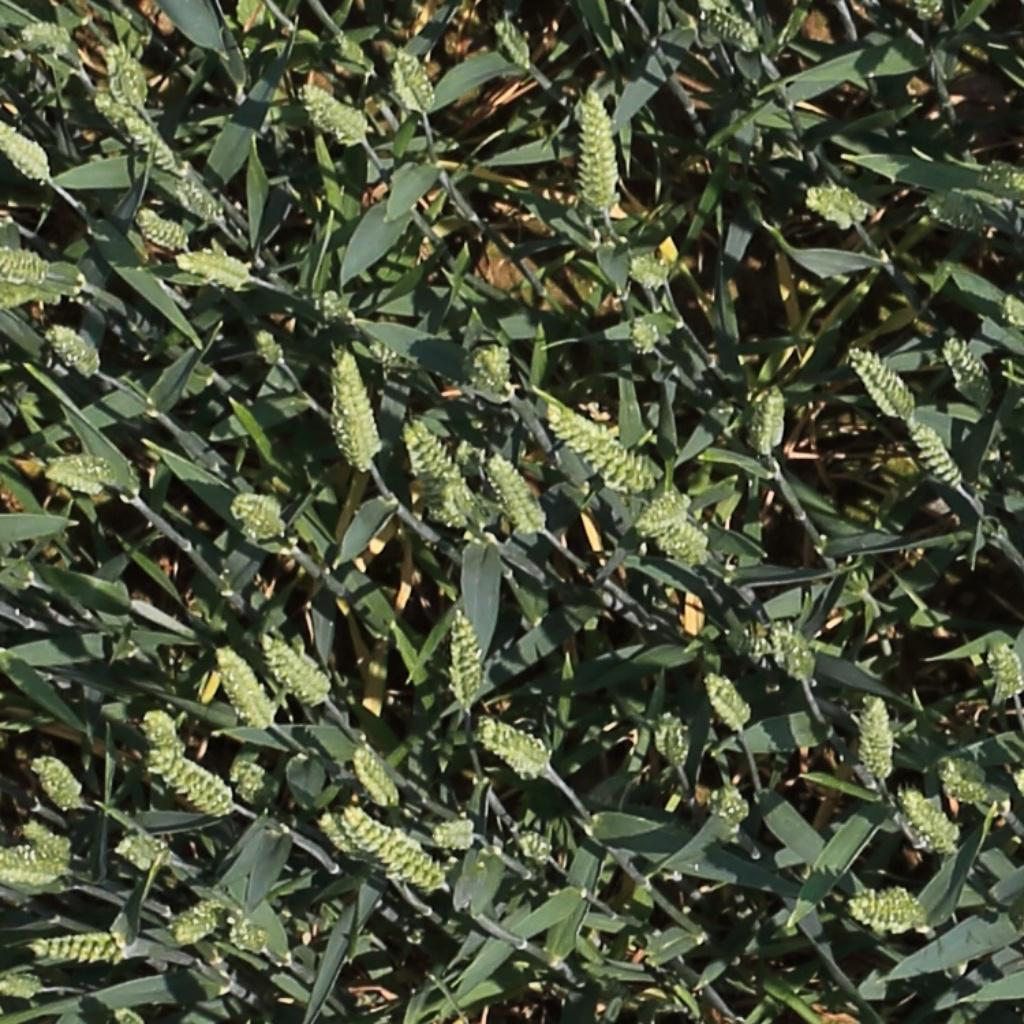0-0: (548, 408, 652, 491), (345, 811, 445, 890), (404, 417, 477, 516), (95, 91, 181, 172), (333, 344, 383, 466), (212, 643, 278, 734), (146, 750, 234, 817), (487, 449, 550, 539), (576, 86, 618, 217), (260, 633, 334, 707), (903, 408, 966, 494), (849, 344, 918, 420), (301, 83, 369, 150), (23, 929, 146, 966), (940, 331, 996, 412), (898, 786, 961, 857), (329, 379, 371, 476), (349, 742, 404, 816), (701, 669, 755, 738), (389, 42, 438, 117), (103, 36, 150, 114), (0, 111, 53, 180), (479, 720, 552, 768), (770, 617, 820, 686), (27, 755, 86, 813), (315, 811, 372, 869), (0, 842, 70, 889), (848, 885, 922, 929), (451, 610, 481, 715), (490, 12, 539, 76), (45, 322, 101, 378), (140, 705, 188, 768), (163, 891, 221, 940), (20, 814, 86, 856), (16, 15, 78, 59), (703, 6, 763, 51), (173, 174, 228, 223), (929, 192, 989, 236), (972, 151, 1024, 201), (641, 517, 711, 554), (865, 692, 892, 787), (230, 496, 288, 540), (177, 252, 252, 285), (228, 909, 270, 966), (233, 763, 291, 804), (988, 636, 1021, 707), (475, 337, 514, 397), (135, 207, 189, 248), (759, 382, 787, 461), (659, 707, 690, 776), (43, 462, 107, 495), (640, 492, 694, 531), (806, 189, 864, 223), (939, 768, 991, 805), (0, 244, 50, 282), (367, 337, 421, 372), (714, 786, 753, 834), (251, 322, 289, 371), (136, 0, 180, 39), (0, 281, 62, 308), (114, 841, 173, 869), (629, 255, 675, 290), (630, 315, 662, 359), (992, 287, 1024, 327), (903, 0, 953, 19), (434, 827, 479, 846), (0, 980, 45, 996)
